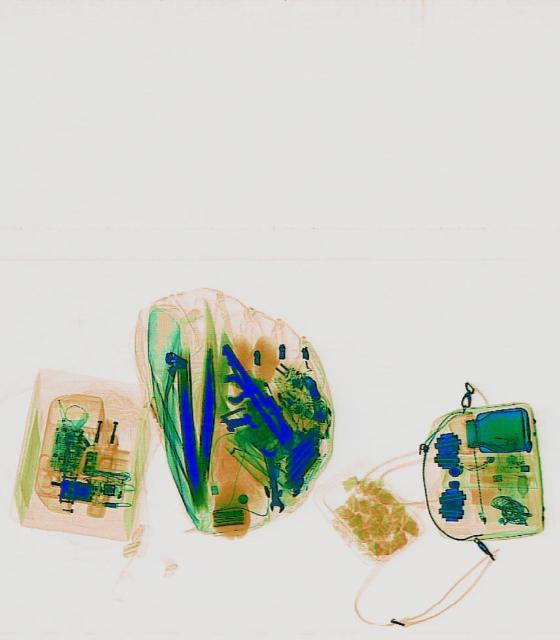Wrench: (261, 442, 285, 512)
